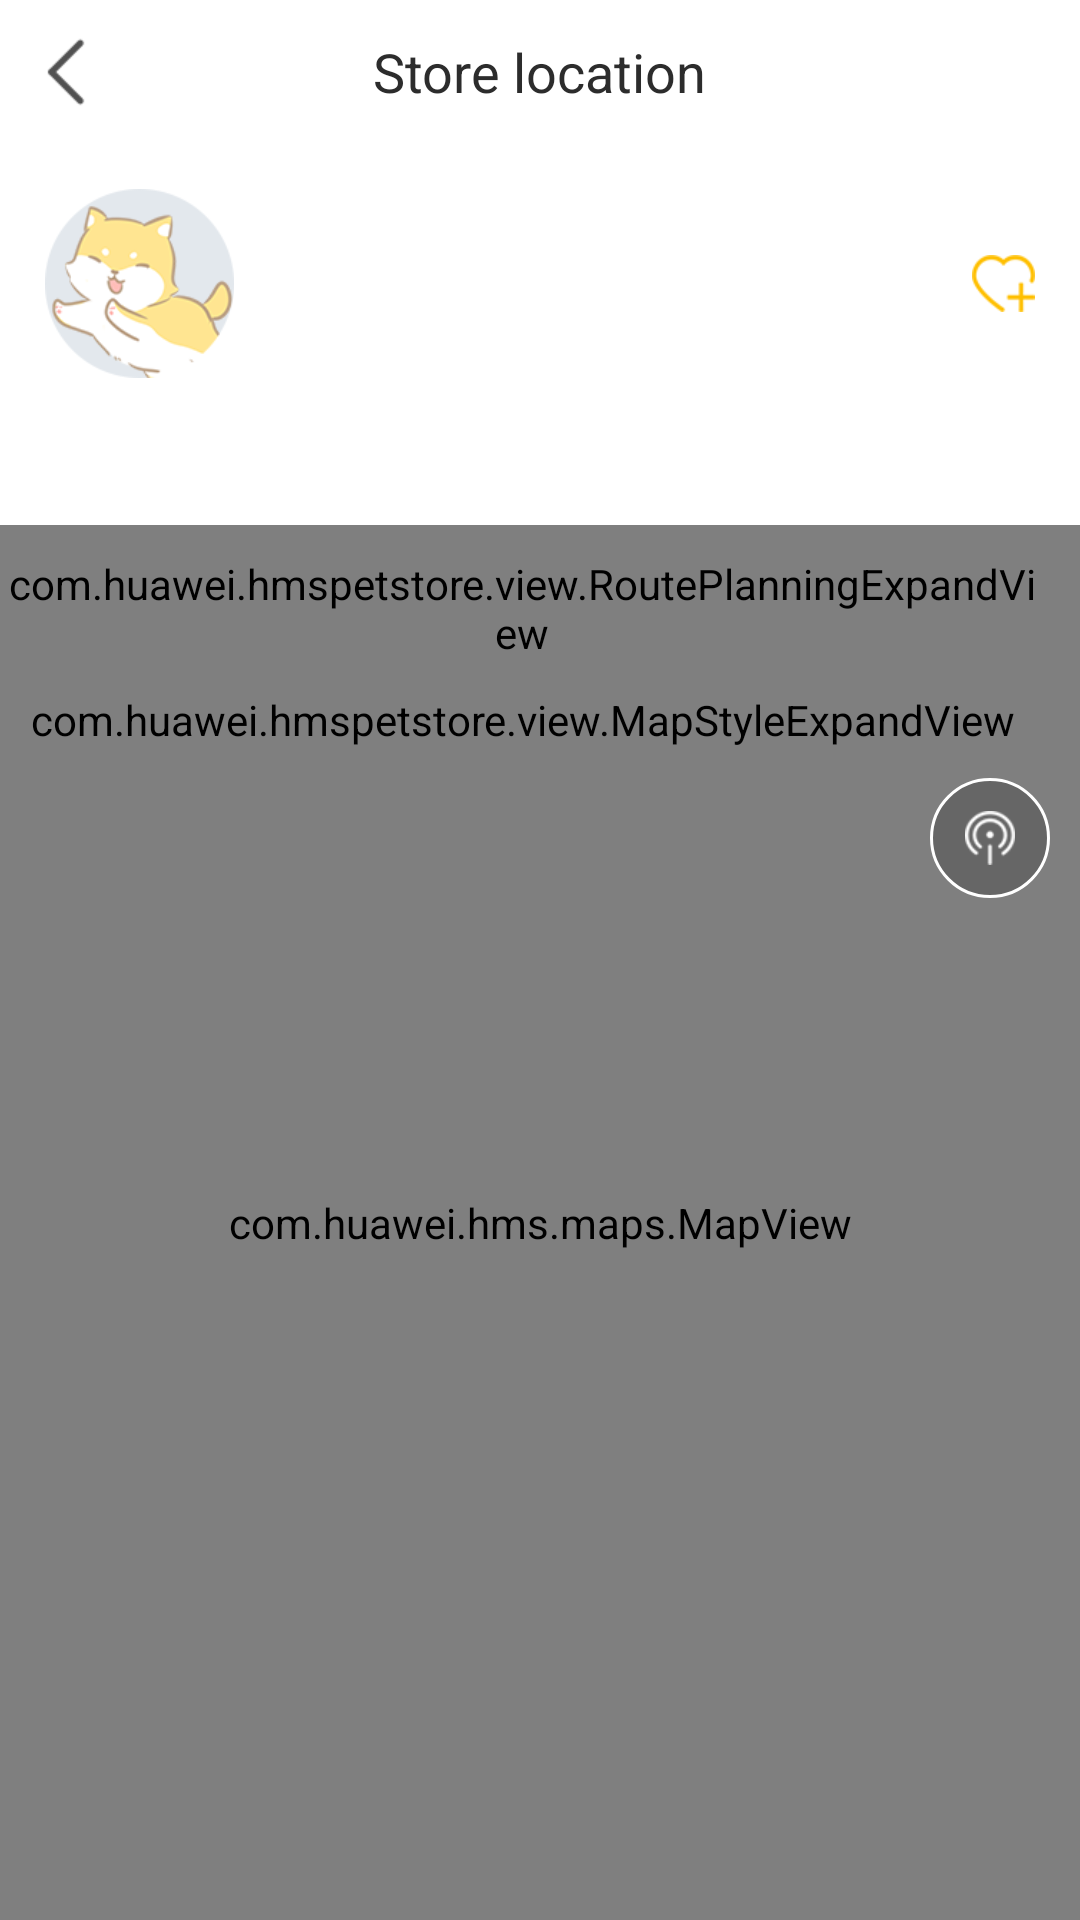

Point at icon controls on the screen. Image size 1080px×1920px, points as point (x, y).
back: point (65, 72)
mapplace near: point (990, 838)
